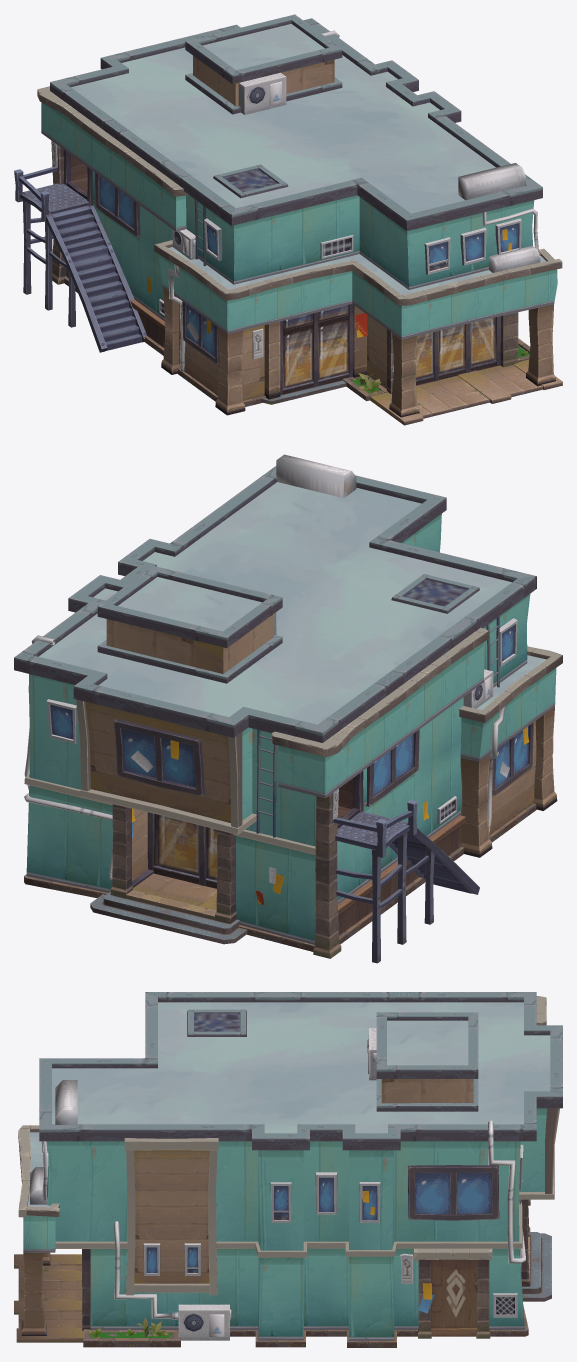
The model's file is hbxz_jz003_02.FBX.
The picture shows the model from 3 angles, top to bottom: view 1: azimuth 30°, elevation 25°; view 2: azimuth 150°, elevation 25°; view 3: azimuth 270°, elevation 25°; orthographic projection. The views are drawn at different scales.
Parts seen in each view (by area): view 1: hbxz_jz003_02; view 2: hbxz_jz003_02; view 3: hbxz_jz003_02.
Part boxes in pixels (x1,y1,x2,y2): hbxz_jz003_02: (14,14,562,425); hbxz_jz003_02: (14,454,562,963); hbxz_jz003_02: (14,992,562,1347).
Bounding box in the file's own units: 759 × 511 × 1034.
Materials: 4 (4 with a texture image).
